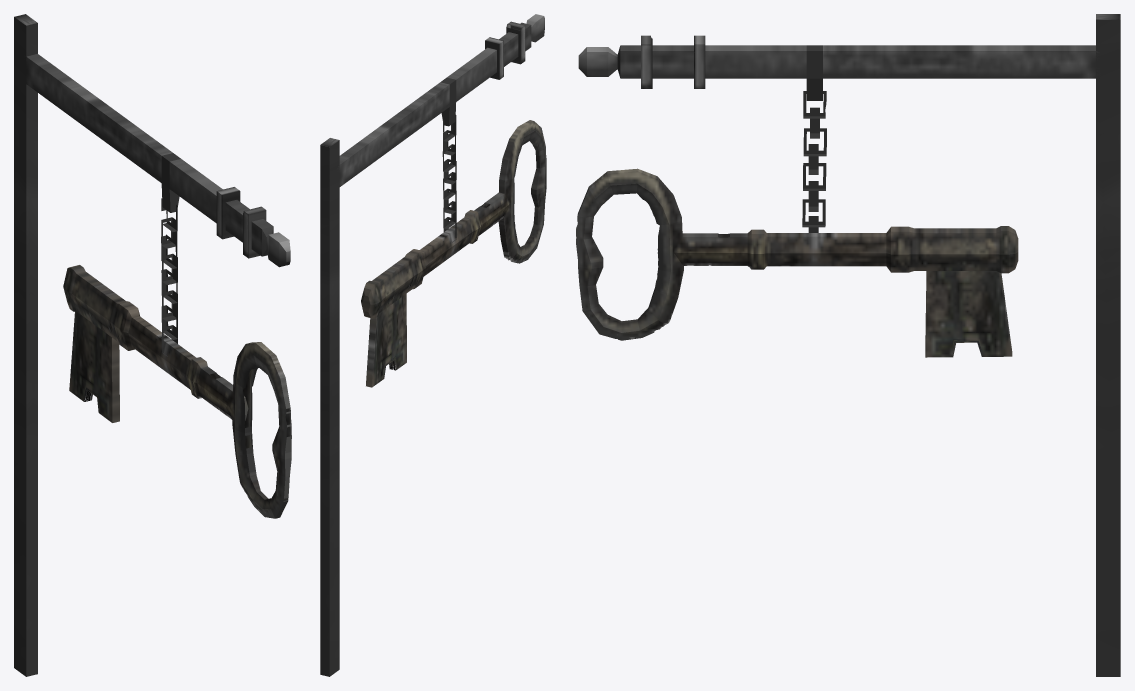
File: sign_361x08.obj
3 views of the same model, side by side, from view 1: azimuth 30°, elevation 25°; view 2: azimuth 150°, elevation 25°; view 3: azimuth 270°, elevation 25° (orthographic). The views are drawn at different scales.
Parts seen in each view (by area): view 1: Sign_361x8; view 2: Sign_361x8; view 3: Sign_361x8.
Part boxes in pixels (box(x1,y1,x2,y2)): Sign_361x8: box(14, 14, 291, 676); Sign_361x8: box(320, 14, 546, 676); Sign_361x8: box(576, 14, 1120, 676).
Bounding box in the file's own units: 0.1282 × 3.93 × 2.96.
